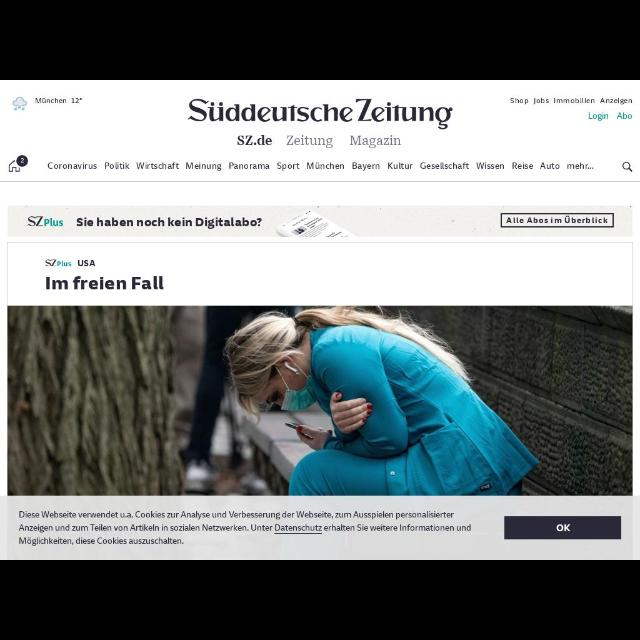backgroundimage: (9, 207, 634, 237)
icon: (7, 160, 20, 172), (622, 162, 634, 174)
iframe: (1, 496, 640, 558)
image: (9, 306, 634, 496), (27, 216, 64, 228), (12, 96, 28, 112), (45, 260, 73, 268)
multitab: (47, 161, 595, 171), (236, 135, 402, 149), (510, 98, 634, 106), (588, 112, 632, 121)
text: (19, 510, 472, 546), (188, 98, 454, 130), (76, 217, 262, 230), (46, 278, 164, 290), (506, 216, 608, 224), (349, 135, 401, 149), (286, 135, 334, 149), (236, 135, 272, 147), (47, 162, 97, 170), (420, 162, 470, 170), (186, 162, 222, 172), (136, 162, 180, 170), (553, 96, 595, 104), (228, 162, 270, 170), (306, 162, 346, 170), (351, 162, 381, 172), (35, 98, 83, 104), (600, 98, 632, 106), (476, 162, 506, 170), (386, 162, 414, 170), (566, 162, 594, 170), (105, 162, 131, 170), (588, 112, 610, 121), (276, 162, 300, 170), (512, 162, 534, 170), (540, 162, 560, 170), (78, 260, 96, 268), (617, 112, 633, 120), (556, 524, 572, 532), (510, 98, 530, 104), (532, 98, 550, 104), (20, 158, 26, 164)
textbutton: (504, 517, 622, 539), (501, 214, 614, 226)
